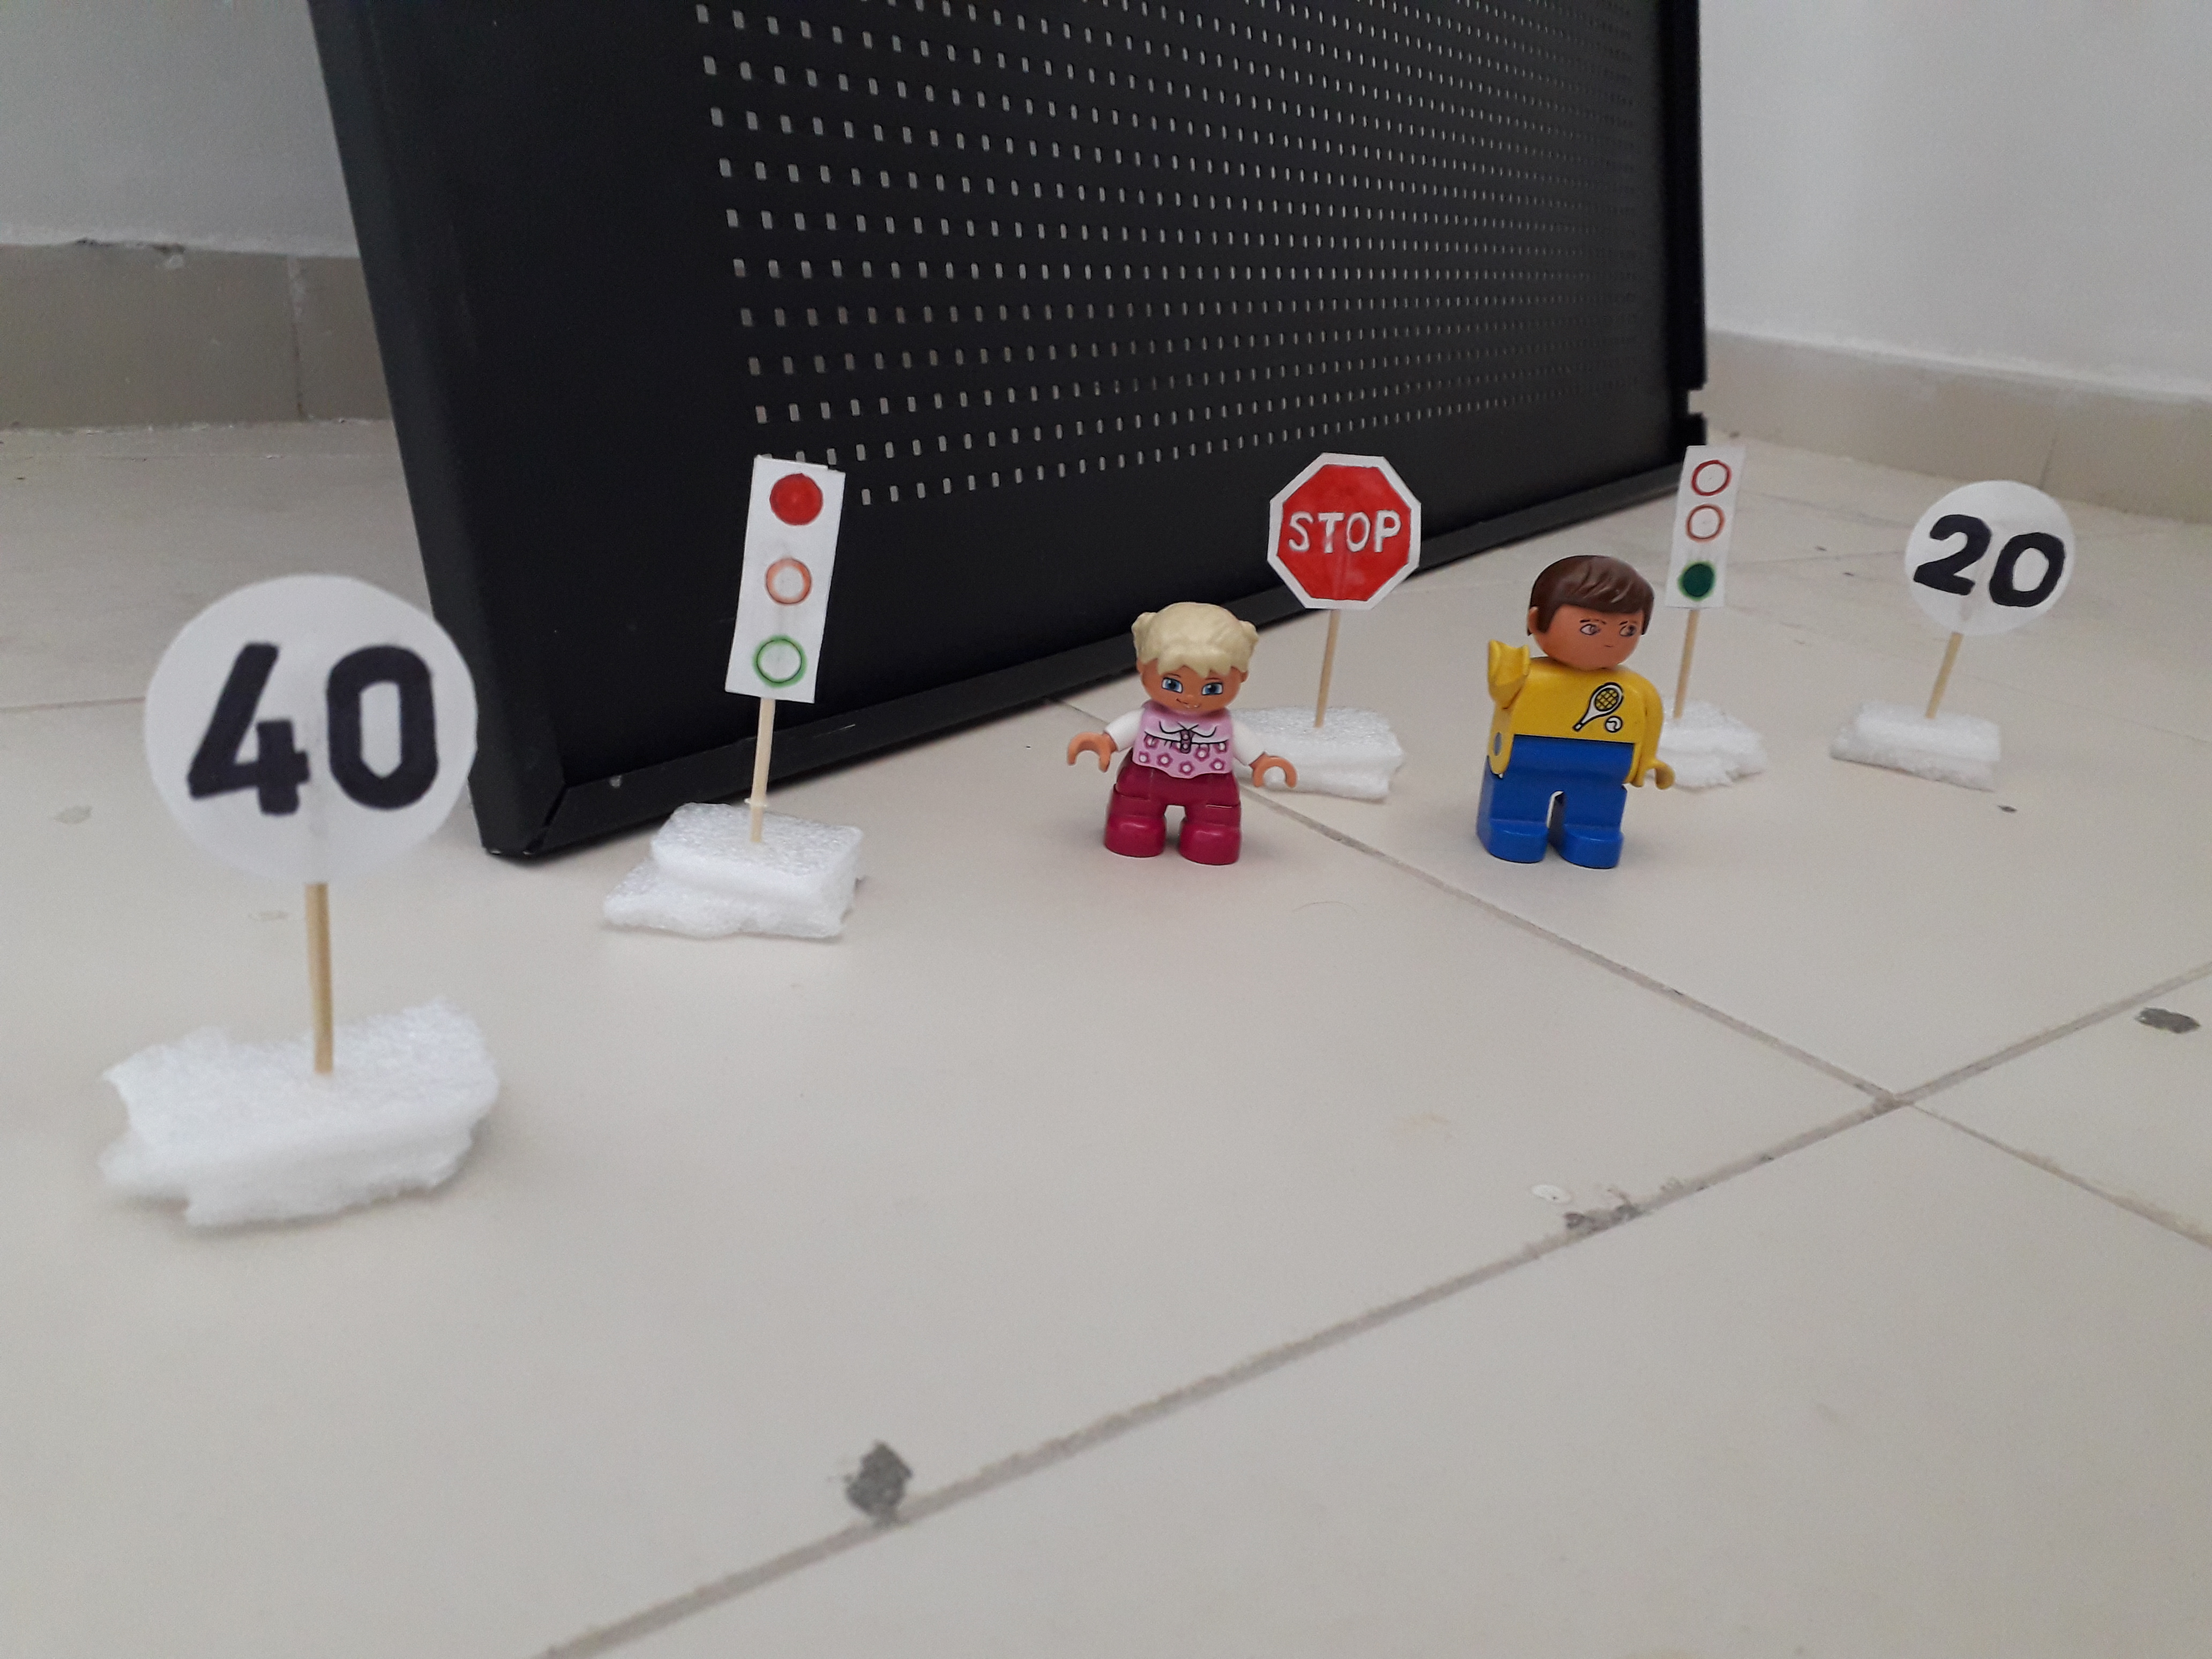20_sign: (1901, 477, 2084, 638)
40_sign: (148, 574, 482, 890)
green_light: (1661, 444, 1763, 615)
person: (1449, 551, 1681, 880), (1079, 610, 1273, 872)
red_light: (706, 449, 860, 722)
stop_sign: (1262, 457, 1431, 615)
